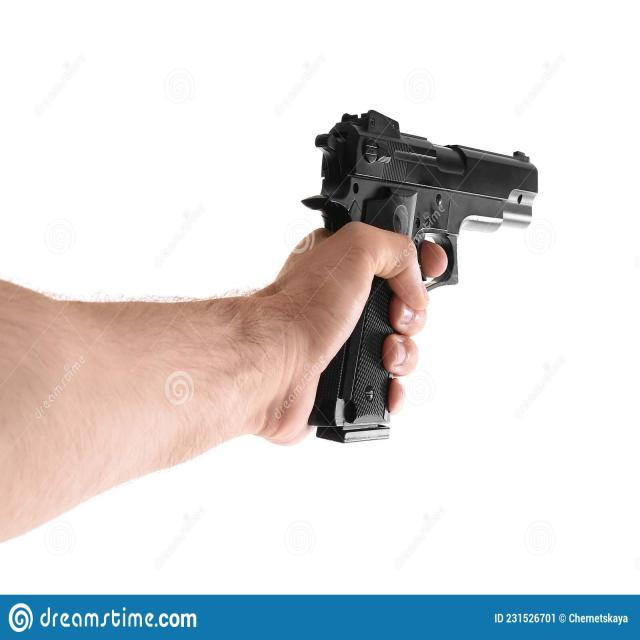HandGun: (304, 110, 540, 445)
